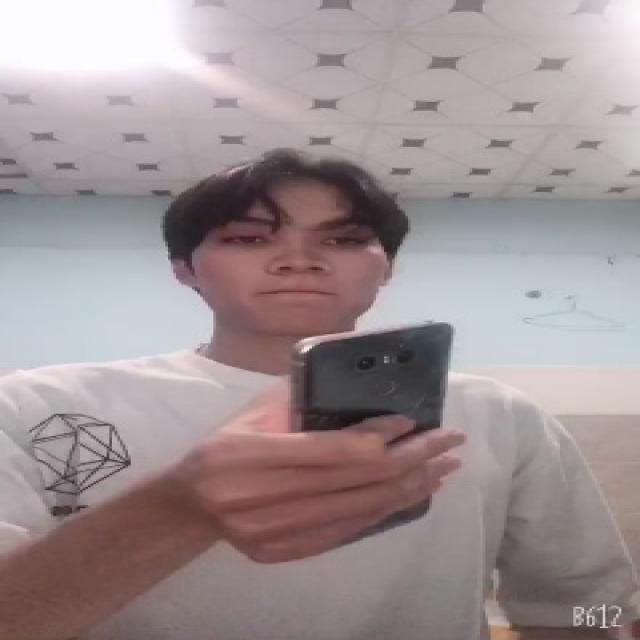Phone: (286, 317, 456, 540)
